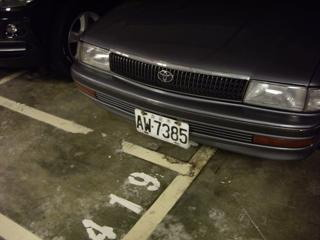plate: (133, 106, 190, 149)
